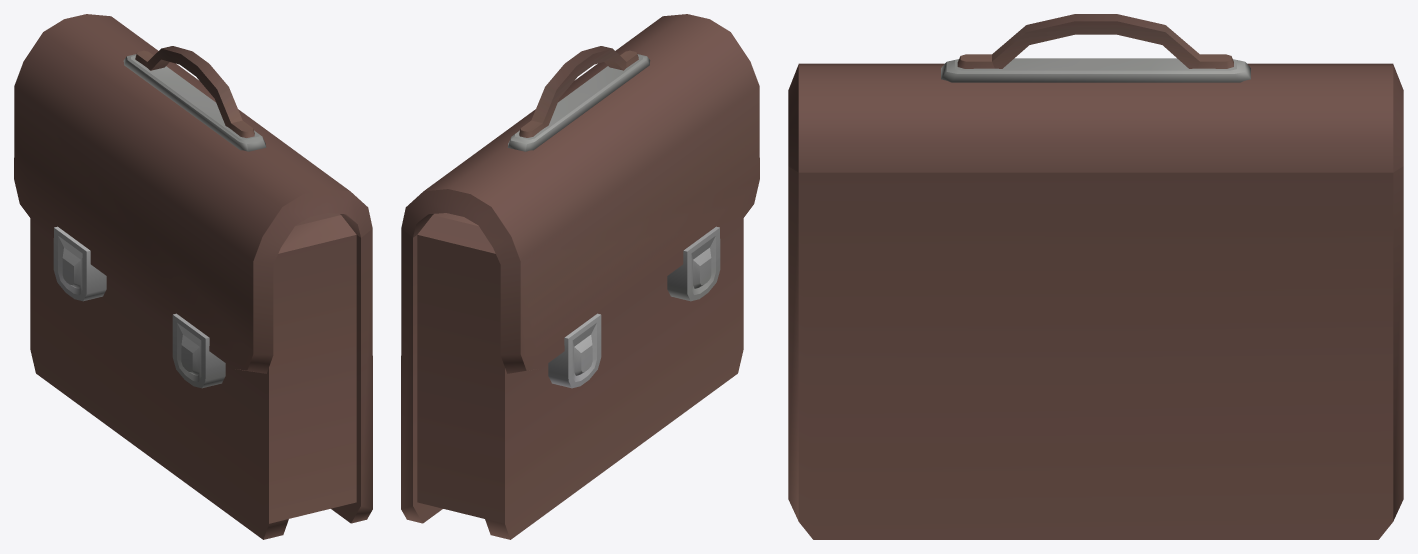
The model's file is Suitcase_1_1_A.fbx.
3 renders of one model, left to right at view 1: azimuth 30°, elevation 25°; view 2: azimuth 150°, elevation 25°; view 3: azimuth 270°, elevation 25°, orthographic. The views are drawn at different scales.
Parts seen in each view (by area): view 1: Suitcase_1_1_A; view 2: Suitcase_1_1_A; view 3: Suitcase_1_1_A.
Boxes of the visible parts, bbox=[...] form: Suitcase_1_1_A: bbox=[14, 14, 372, 539]; Suitcase_1_1_A: bbox=[401, 14, 759, 539]; Suitcase_1_1_A: bbox=[788, 14, 1403, 539].
Size of the model in its own units: 16.04 by 47.79 by 54.73.
